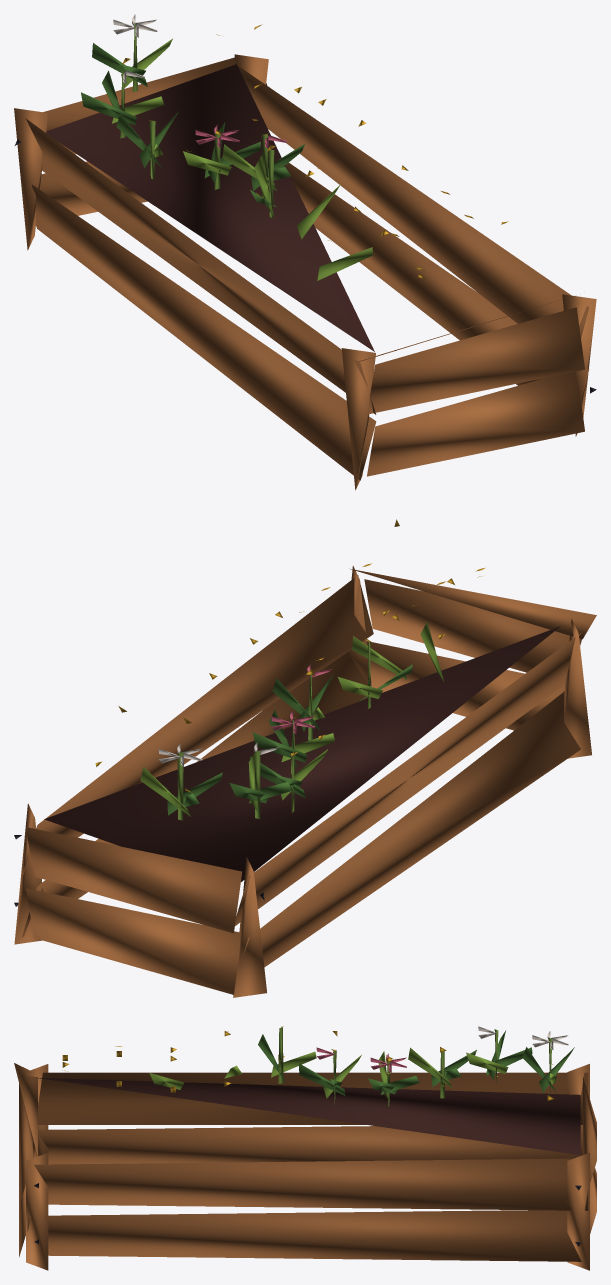
Rendered from prop.flower-bed.large.lod2.glb.
The picture shows the model from 3 angles, top to bottom: view 1: azimuth 30°, elevation 25°; view 2: azimuth 150°, elevation 25°; view 3: azimuth 270°, elevation 25°; orthographic projection. The views are drawn at different scales.
Size of the model in its own units: 0.852 by 0.6996 by 2.07.
